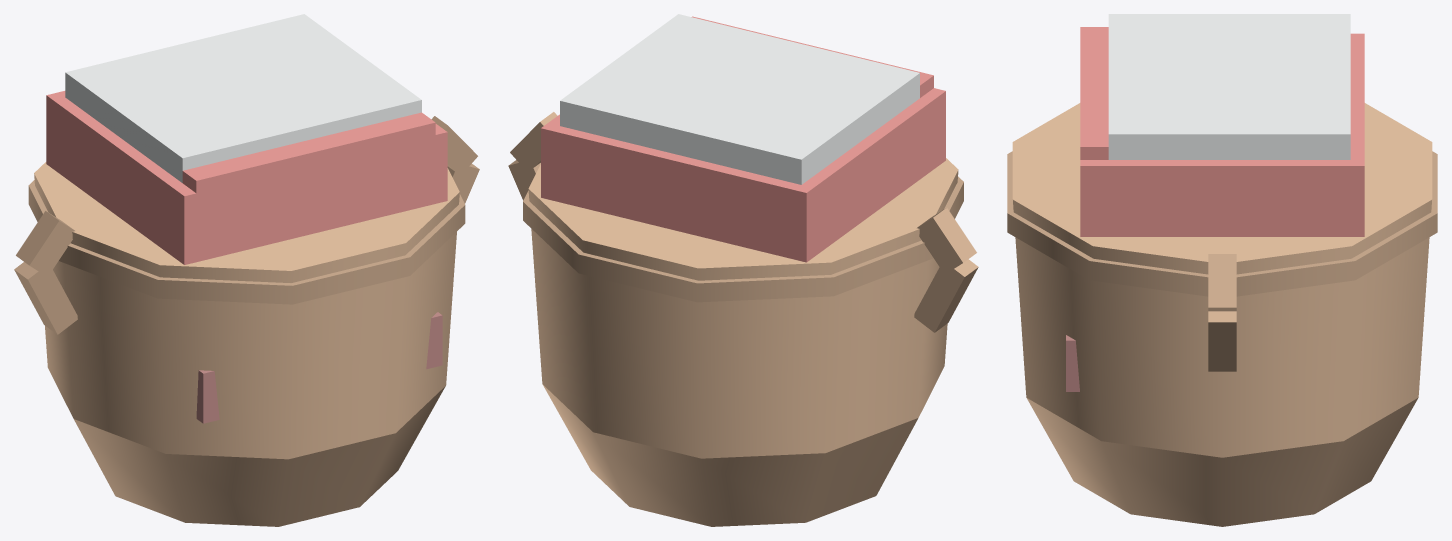
The model's file is basketThrow.glb.
The picture shows the model from 3 angles, left to right: view 1: azimuth 30°, elevation 25°; view 2: azimuth 150°, elevation 25°; view 3: azimuth 270°, elevation 25°; orthographic projection. The views are drawn at different scales.
Parts seen in each view (by area): view 1: basketThrow; view 2: basketThrow; view 3: basketThrow.
Part boxes in pixels (x1,y1,x2,y2): basketThrow: (14,14,479,526); basketThrow: (508,14,978,526); basketThrow: (1007,14,1437,526).
Size of the model in its own units: 0.3779 by 0.3 by 0.3024.
